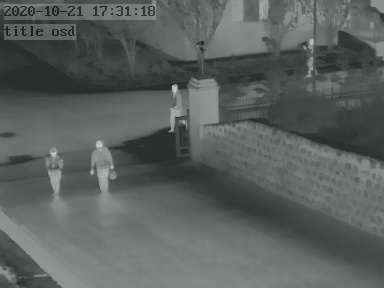person: (89, 137, 118, 194), (44, 144, 64, 198), (167, 81, 181, 133)
